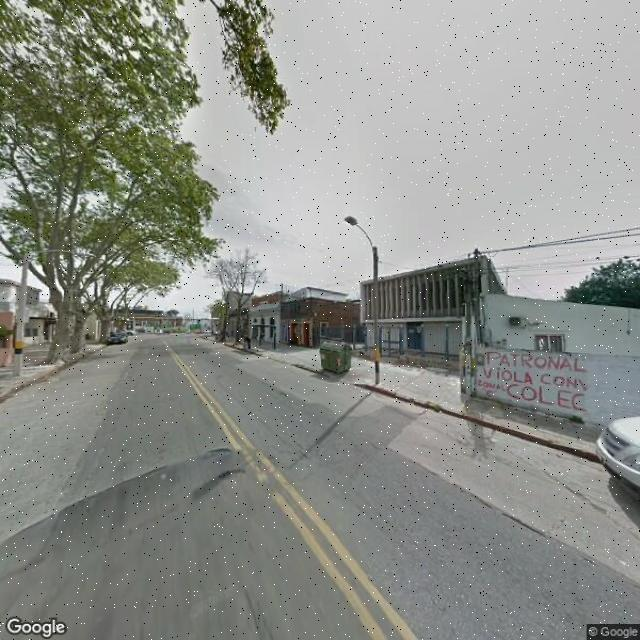garbage container: (314, 335, 360, 382)
